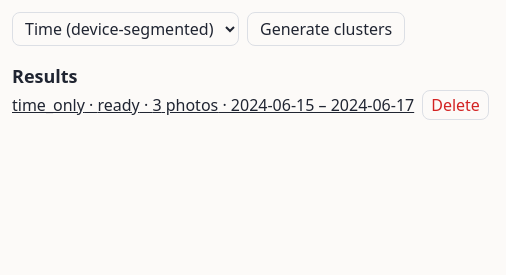
Test: ClusterView › renders a node without a date span
Click the button with test id "result-row" at (213, 105), box [12,93,414,117]
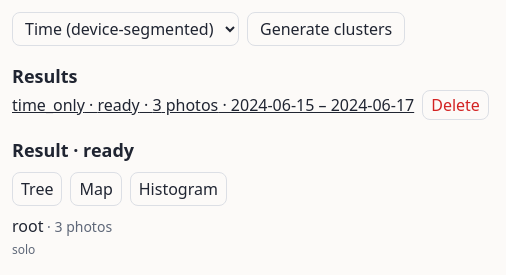
Result: the text "solo" is shown at [12,242,35,258]
